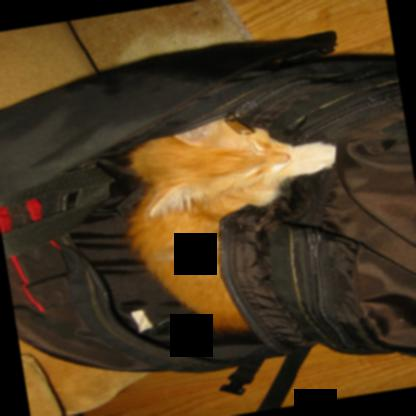backpack: (0, 30, 416, 411)
